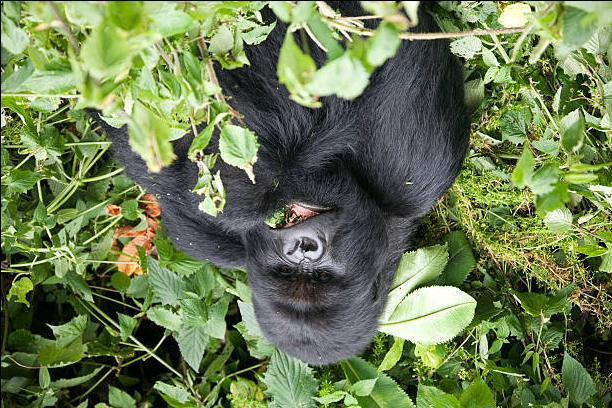goriile_montagne: (79, 15, 483, 388)
